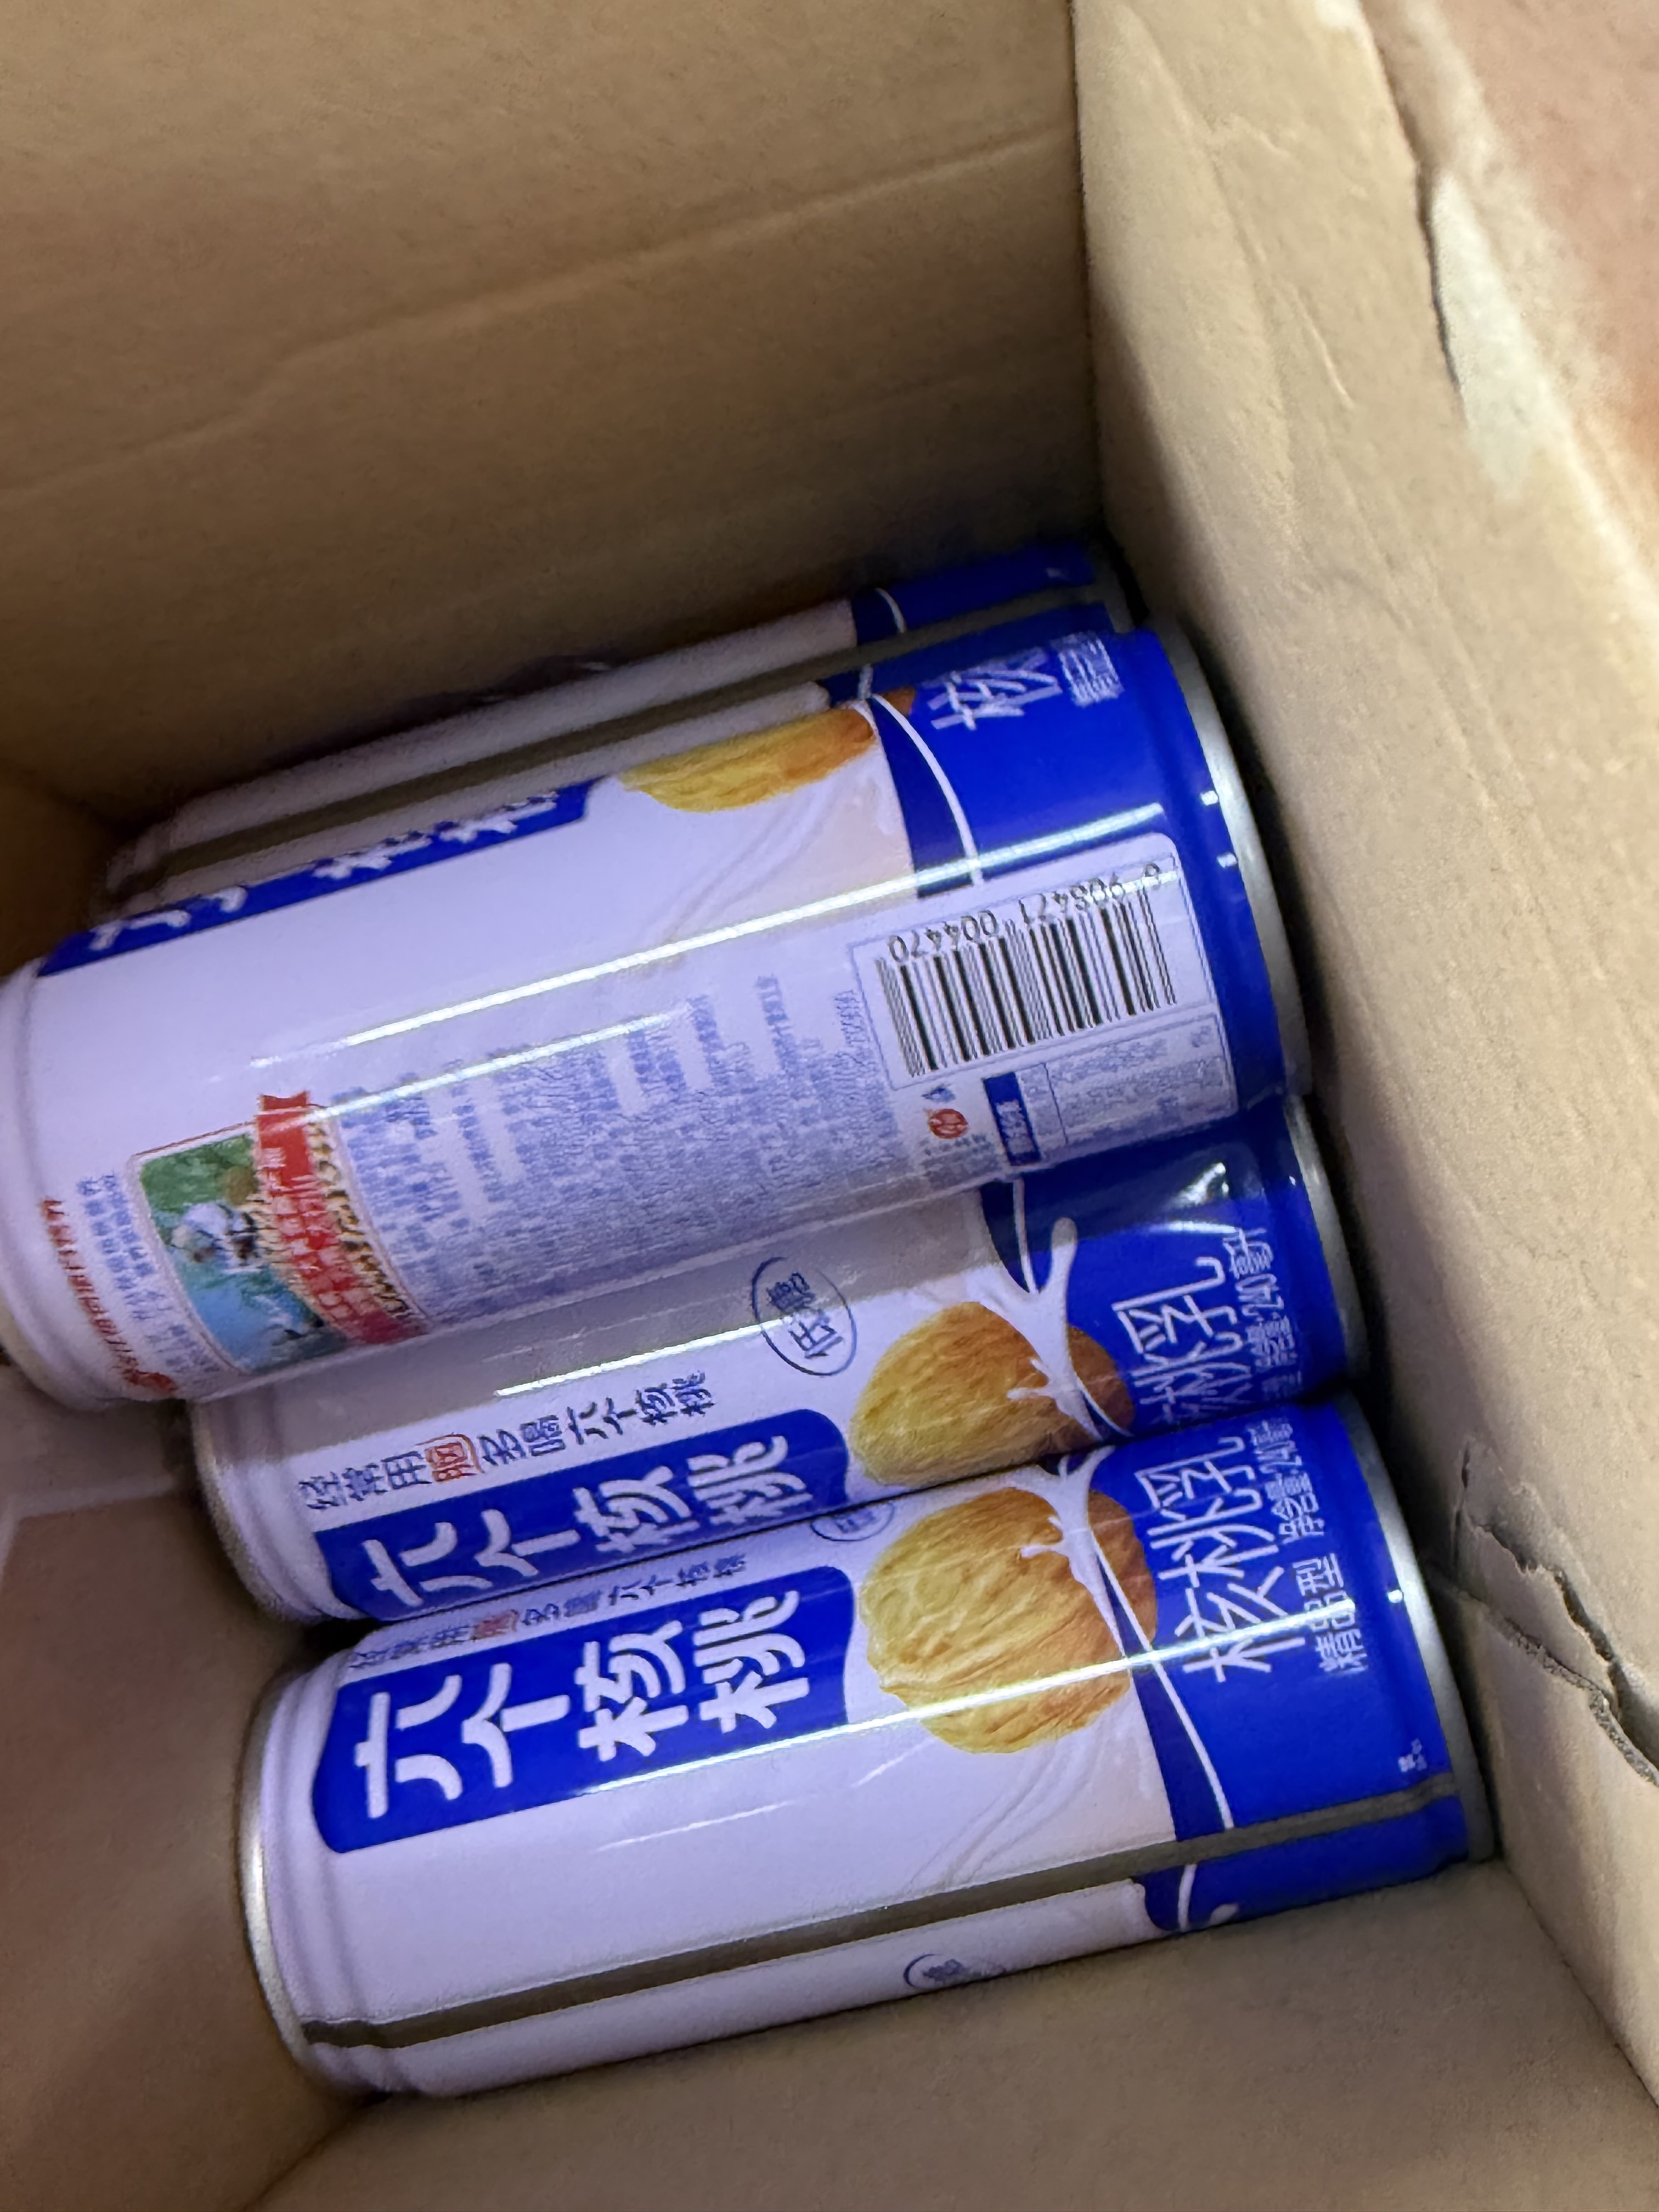bar: (868, 871, 1183, 1083)
